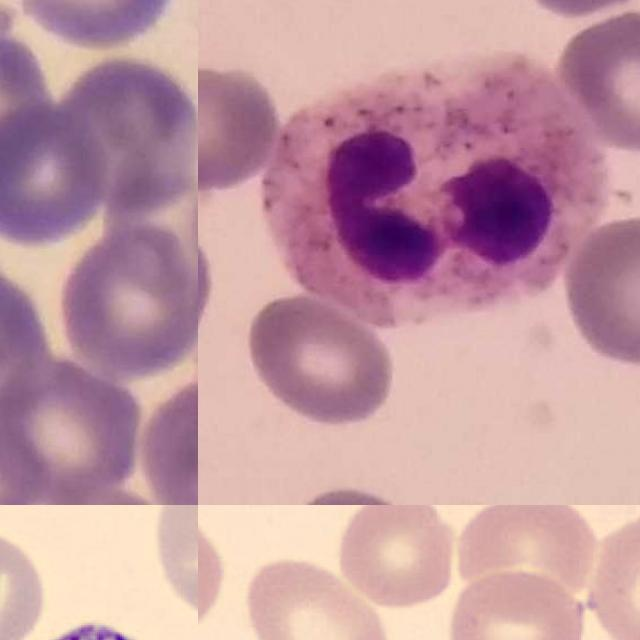Basophil: (0, 596, 196, 640)
Neutrophil: (263, 51, 607, 315)
RBC: (238, 551, 398, 640), (330, 505, 463, 611), (442, 567, 589, 640), (581, 510, 640, 640), (146, 505, 198, 625), (0, 522, 49, 640)
